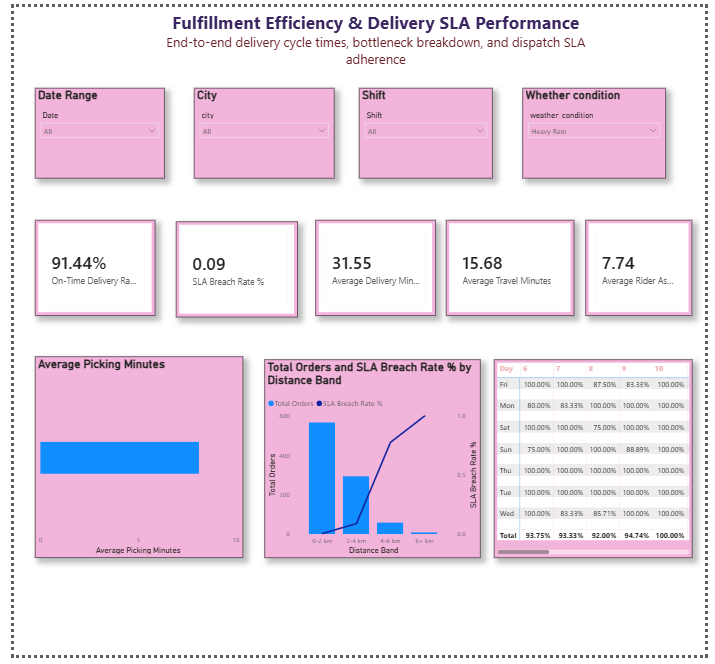

The page's visual inventory and layout, read from the dashboard file:
{"tool":"powerbi","page":{"name":"Delivery & SLA Performance","canvas":[1280,1200],"ordinal":1},"visuals":[{"type":"slicer","title":"City","fields":{"Values":["stores.city"]},"box":[332.5,150,260,167.5],"z":0},{"type":"slicer","title":"Date Range","fields":{"Values":["Dim_Date.Date"]},"box":[40,150,240,167.5],"z":1000},{"type":"textbox","box":[262.5,0,812.5,125],"z":2000},{"type":"slicer","title":"Shift","fields":{"Values":["Dim_Shift.Shift"]},"box":[640,150,247.5,167.5],"z":3000},{"type":"slicer","title":"Whether condition","fields":{"Values":["orders.weather_condition"]},"box":[942.5,150,265,167.5],"z":4000},{"type":"cardVisual","fields":{"Data":["_Measures.On-Time Delivery Rate %"]},"box":[40,395,222.5,177.5],"z":5000},{"type":"cardVisual","fields":{"Data":["_Measures.SLA Breach Rate %"]},"box":[300,397.5,225,177.5],"z":6000},{"type":"cardVisual","fields":{"Data":["_Measures.Average Delivery Minutes"]},"box":[557.5,395,222.5,177.5],"z":7000},{"type":"cardVisual","fields":{"Data":["_Measures.Average Travel Minutes"]},"box":[800,395,237.5,177.5],"z":8000},{"type":"cardVisual","fields":{"Data":["_Measures.Average Rider Assignment Minutes"]},"box":[1057.5,395,197.5,177.5],"z":9000},{"type":"clusteredBarChart","fields":{"Y":["_Measures.Average Picking Minutes"]},"box":[40,647.5,385,372.5],"z":10000},{"type":"lineClusteredColumnComboChart","fields":{"Category":["orders.Distance Band"],"Y":["_Measures.Total Orders"],"Y2":["_Measures.SLA Breach Rate %"]},"box":[462.5,652.5,400,367.5],"z":11000},{"type":"pivotTable","fields":{"Rows":["Dim_Date.Day"],"Columns":["orders.order_hour"],"Values":["_Measures.On-Time Delivery Rate %"]},"box":[887.5,652.5,367.5,367.5],"z":12000}]}

Visuals, with their boxes in screenshot pixels (x1, y1, x2, y2), scaled from the page's 1280x1200 canvas onto the 715x664 screenshot:
"City" slicer: 186 83 331 176
"Date Range" slicer: 22 83 156 176
textbox: 147 0 600 69
"Shift" slicer: 358 83 496 176
"Whether condition" slicer: 526 83 675 176
cardVisual - _Measures.On-Time Delivery Rate %: 22 219 147 317
cardVisual - _Measures.SLA Breach Rate %: 168 220 293 318
cardVisual - _Measures.Average Delivery Minutes: 311 219 436 317
cardVisual - _Measures.Average Travel Minutes: 447 219 580 317
cardVisual - _Measures.Average Rider Assignment Minutes: 591 219 701 317
clusteredBarChart - _Measures.Average Picking Minutes: 22 358 237 564
lineClusteredColumnComboChart - orders.Distance Band x _Measures.Total Orders: 258 361 482 564
pivotTable - Dim_Date.Day x orders.order_hour: 496 361 701 564
